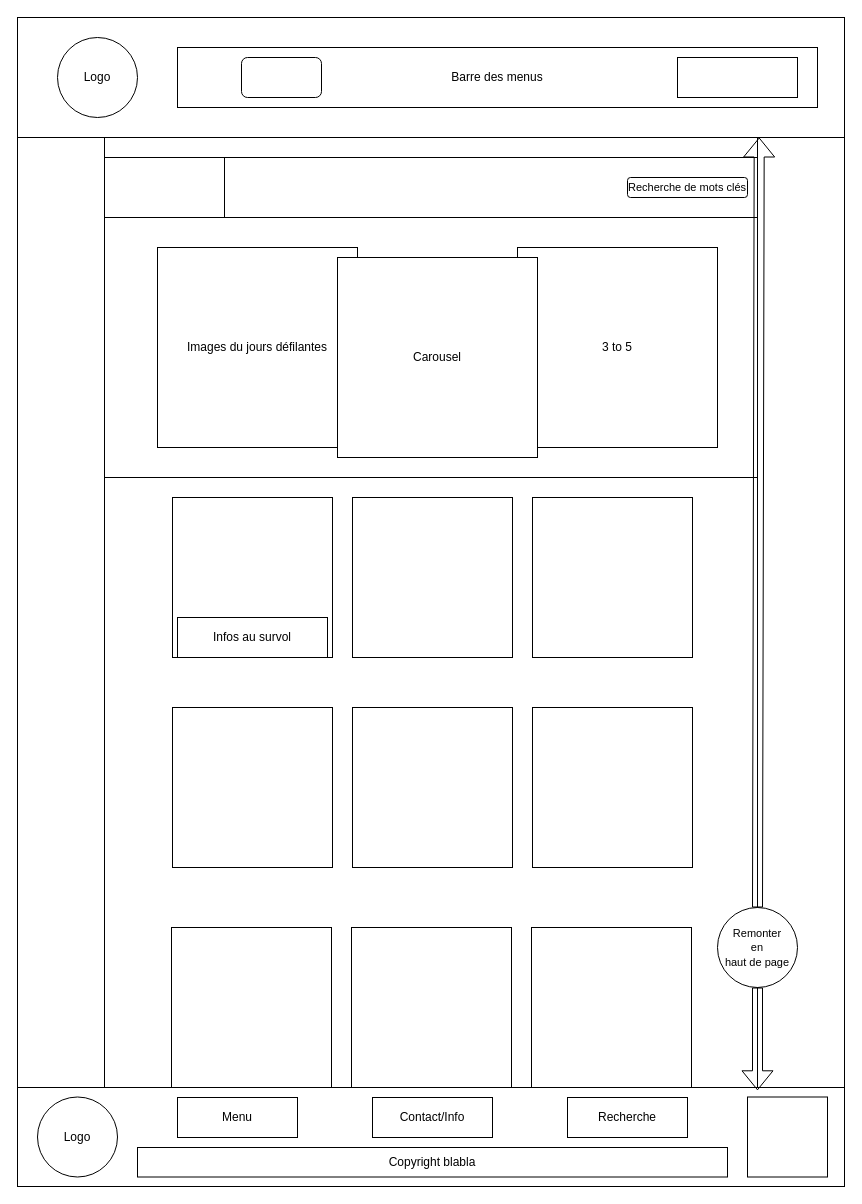
Image size: 862x1204. Some labels were removed from this diagram. The shapes that lost their labels are listed below. From the top down, each one's box as (x1, y1, x2, y2) in pixels, then its label:
(240, 56, 322, 98): Galerie (Couleurs inversées)
(676, 56, 798, 98): Barre de recherche
(104, 156, 224, 218): Titre de menu
(224, 156, 758, 218): Barre des catégories mises en avant
(172, 496, 332, 658): Image
(746, 1096, 828, 1177): Mon Profil
